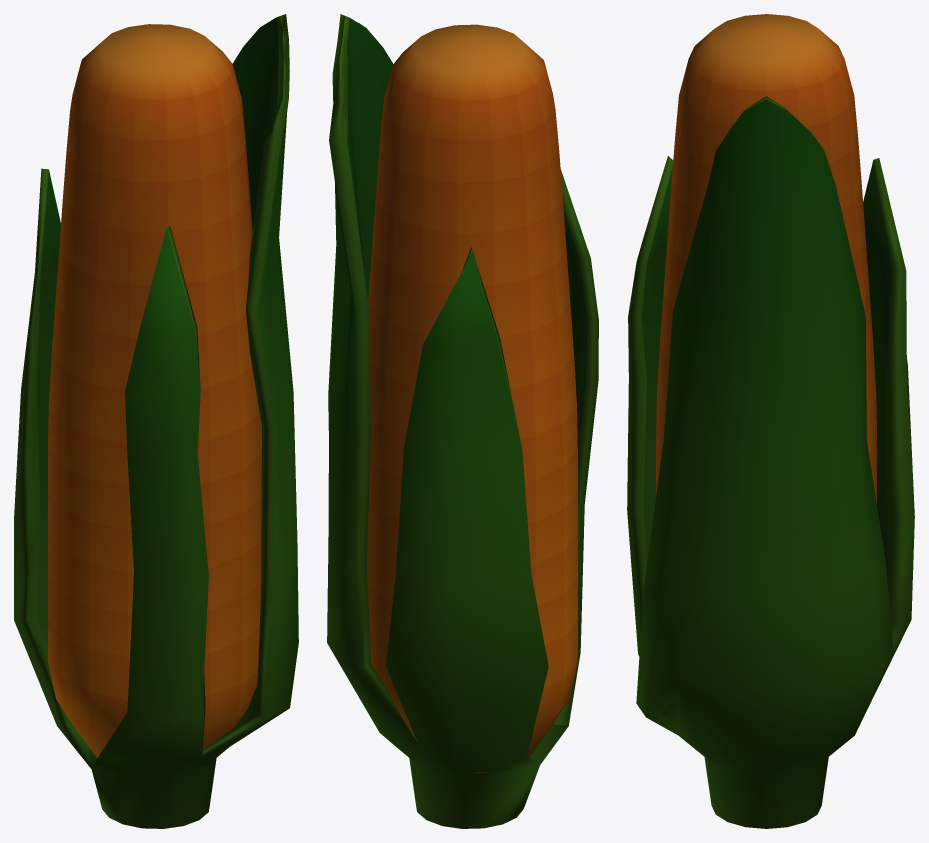
Rendered from Corn_Regular.fbx.
3 renders of one model, left to right at view 1: azimuth 30°, elevation 25°; view 2: azimuth 150°, elevation 25°; view 3: azimuth 270°, elevation 25°, orthographic.
Parts seen in each view (by area): view 1: Corn_Regular; view 2: Corn_Regular; view 3: Corn_Regular.
Part boxes in pixels (x1,y1,x2,y2): Corn_Regular: (14,14,298,828); Corn_Regular: (327,14,598,828); Corn_Regular: (627,14,914,828).
Size of the model in its own units: 13.79 by 42.11 by 14.13.
